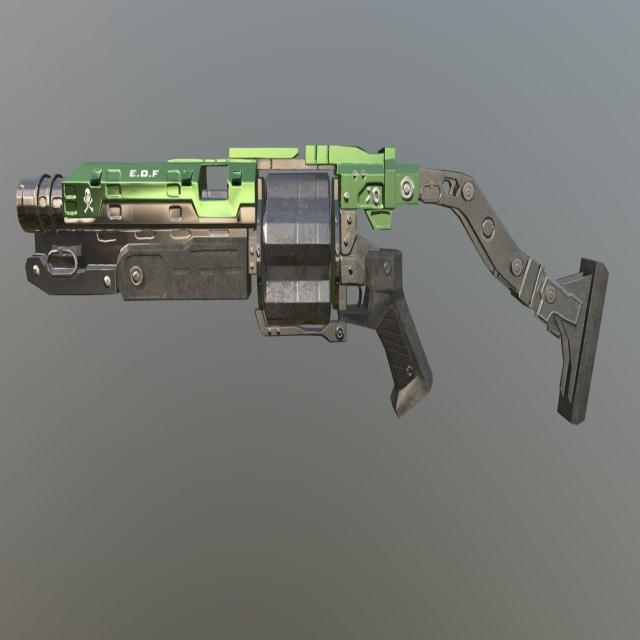weapon: (15, 121, 611, 443)
